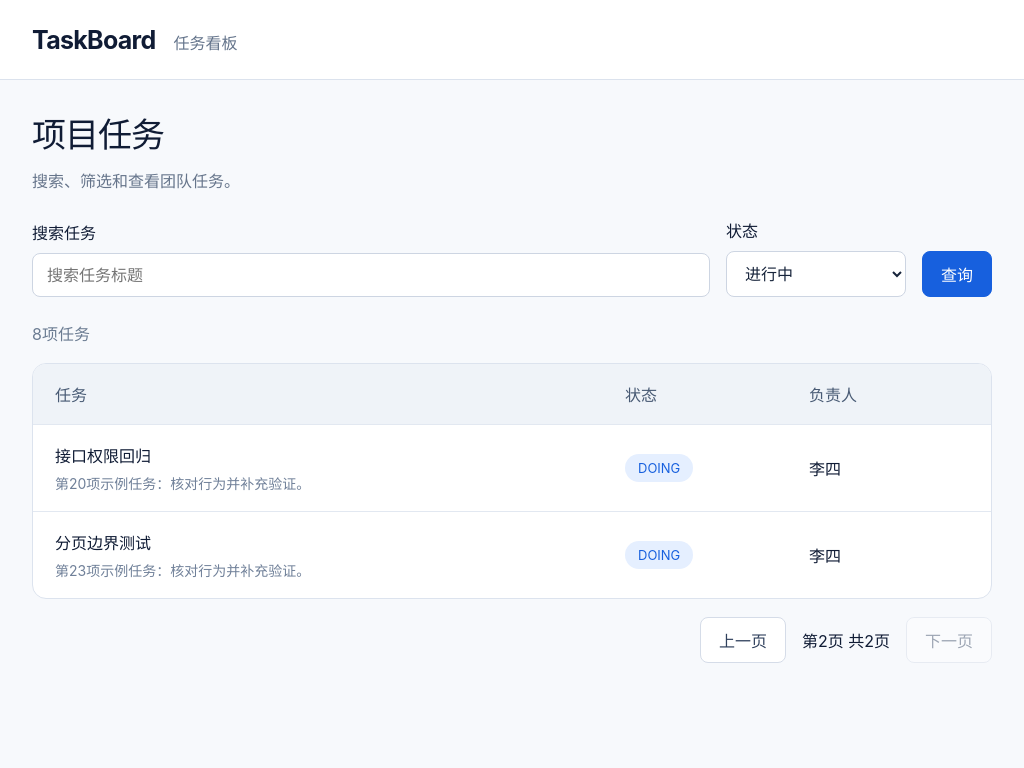
T2 URL 状态同步 › 提交查询 trim 搜索词、页码回 1 并以 replace 写入 URL
This screenshot has width=1024, height=768.
Expected: the text "接口权限回归" is shown, [55,446,151,466]
Type "  登录  " into the field with placeholder "搜索任务标题" at (371, 275), box [32,253,710,297]
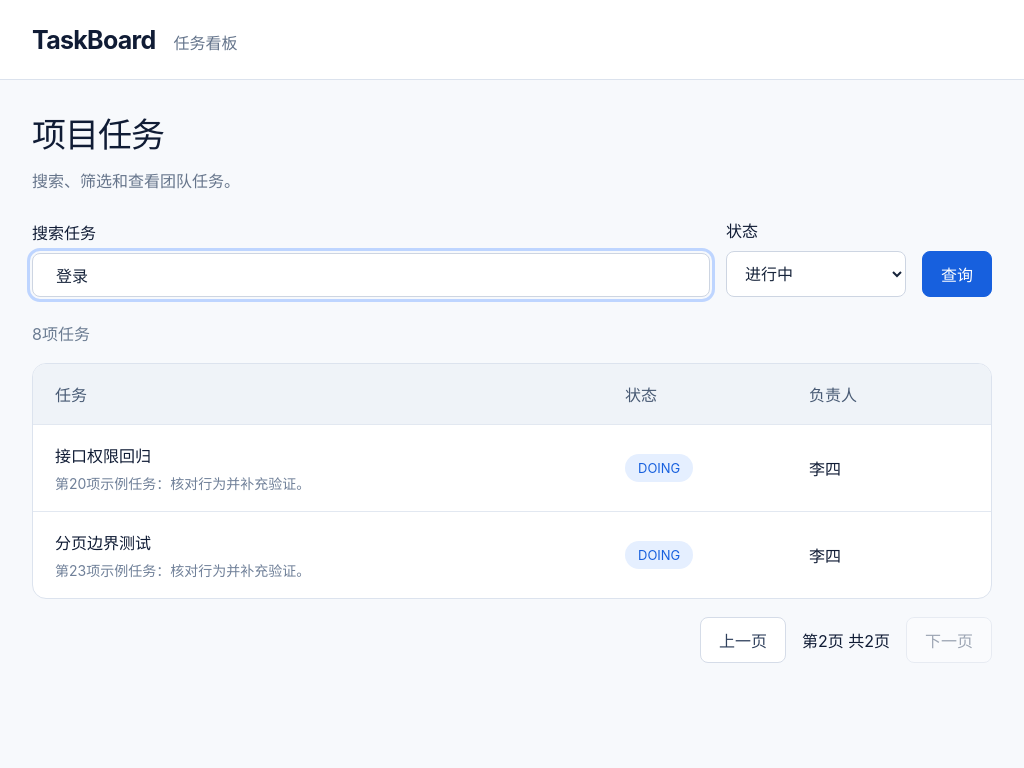
Click the button "查询" at (957, 274), box [922,251,992,297]
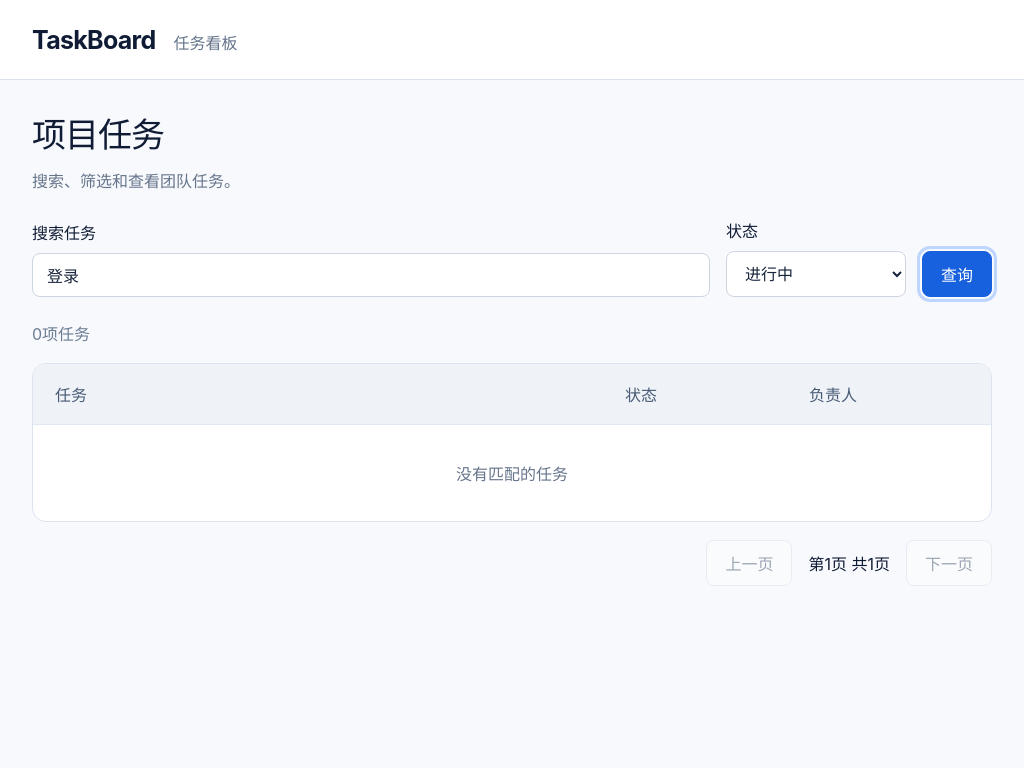
Result: the text "没有匹配的任务" is shown at [456,464,568,484]
Result: the text "第1页 共1页" is shown at [808,551,890,575]
